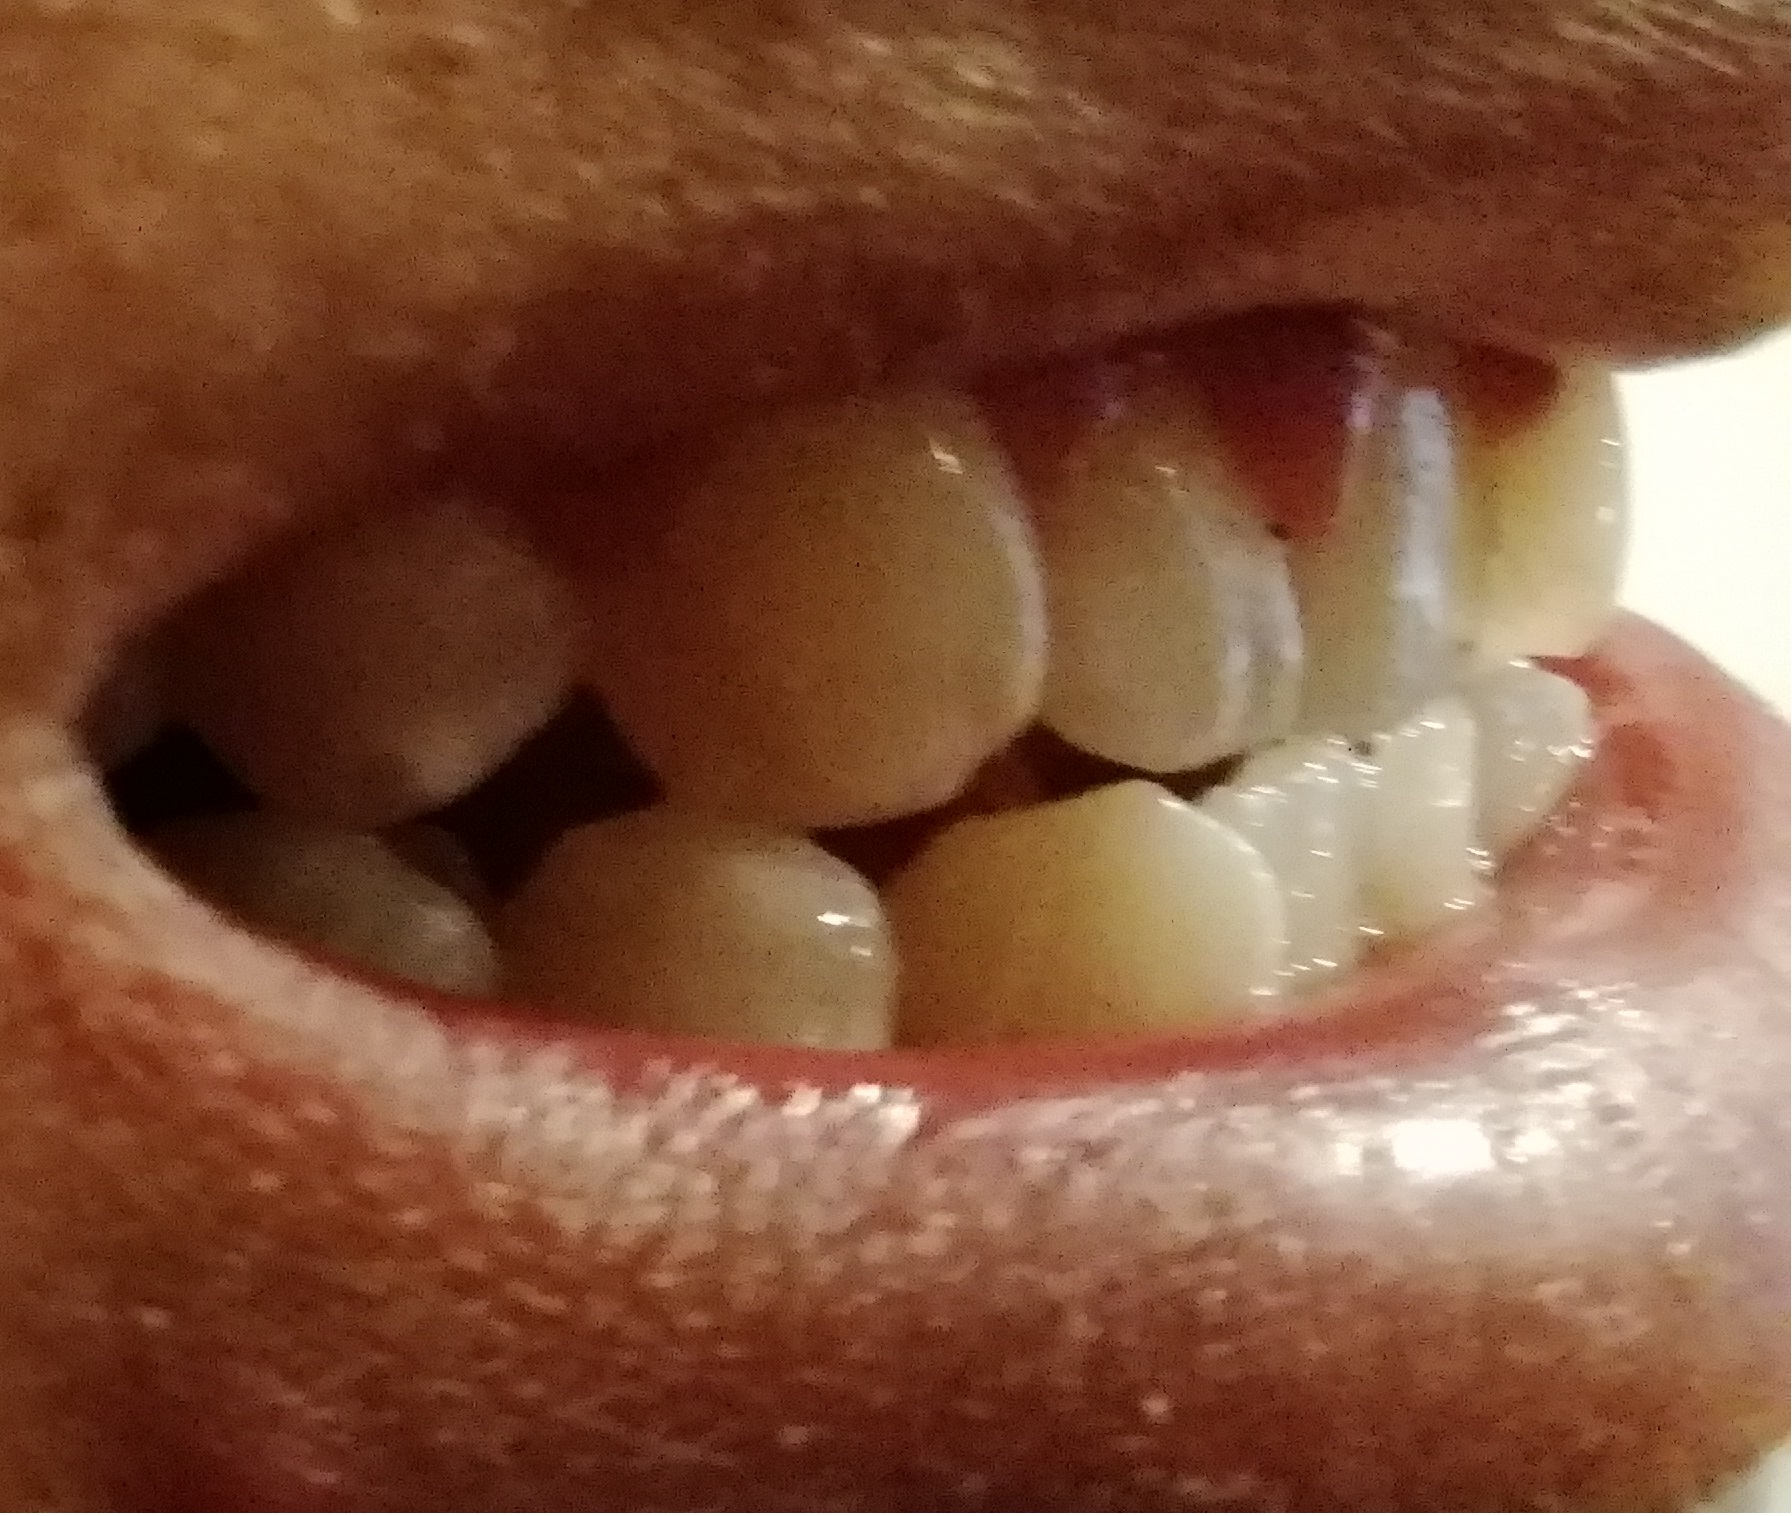boca: (177, 365, 1642, 996)
